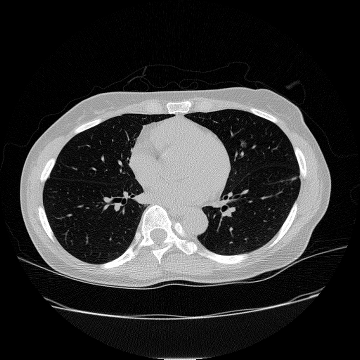nodule: (240, 141, 246, 147)
